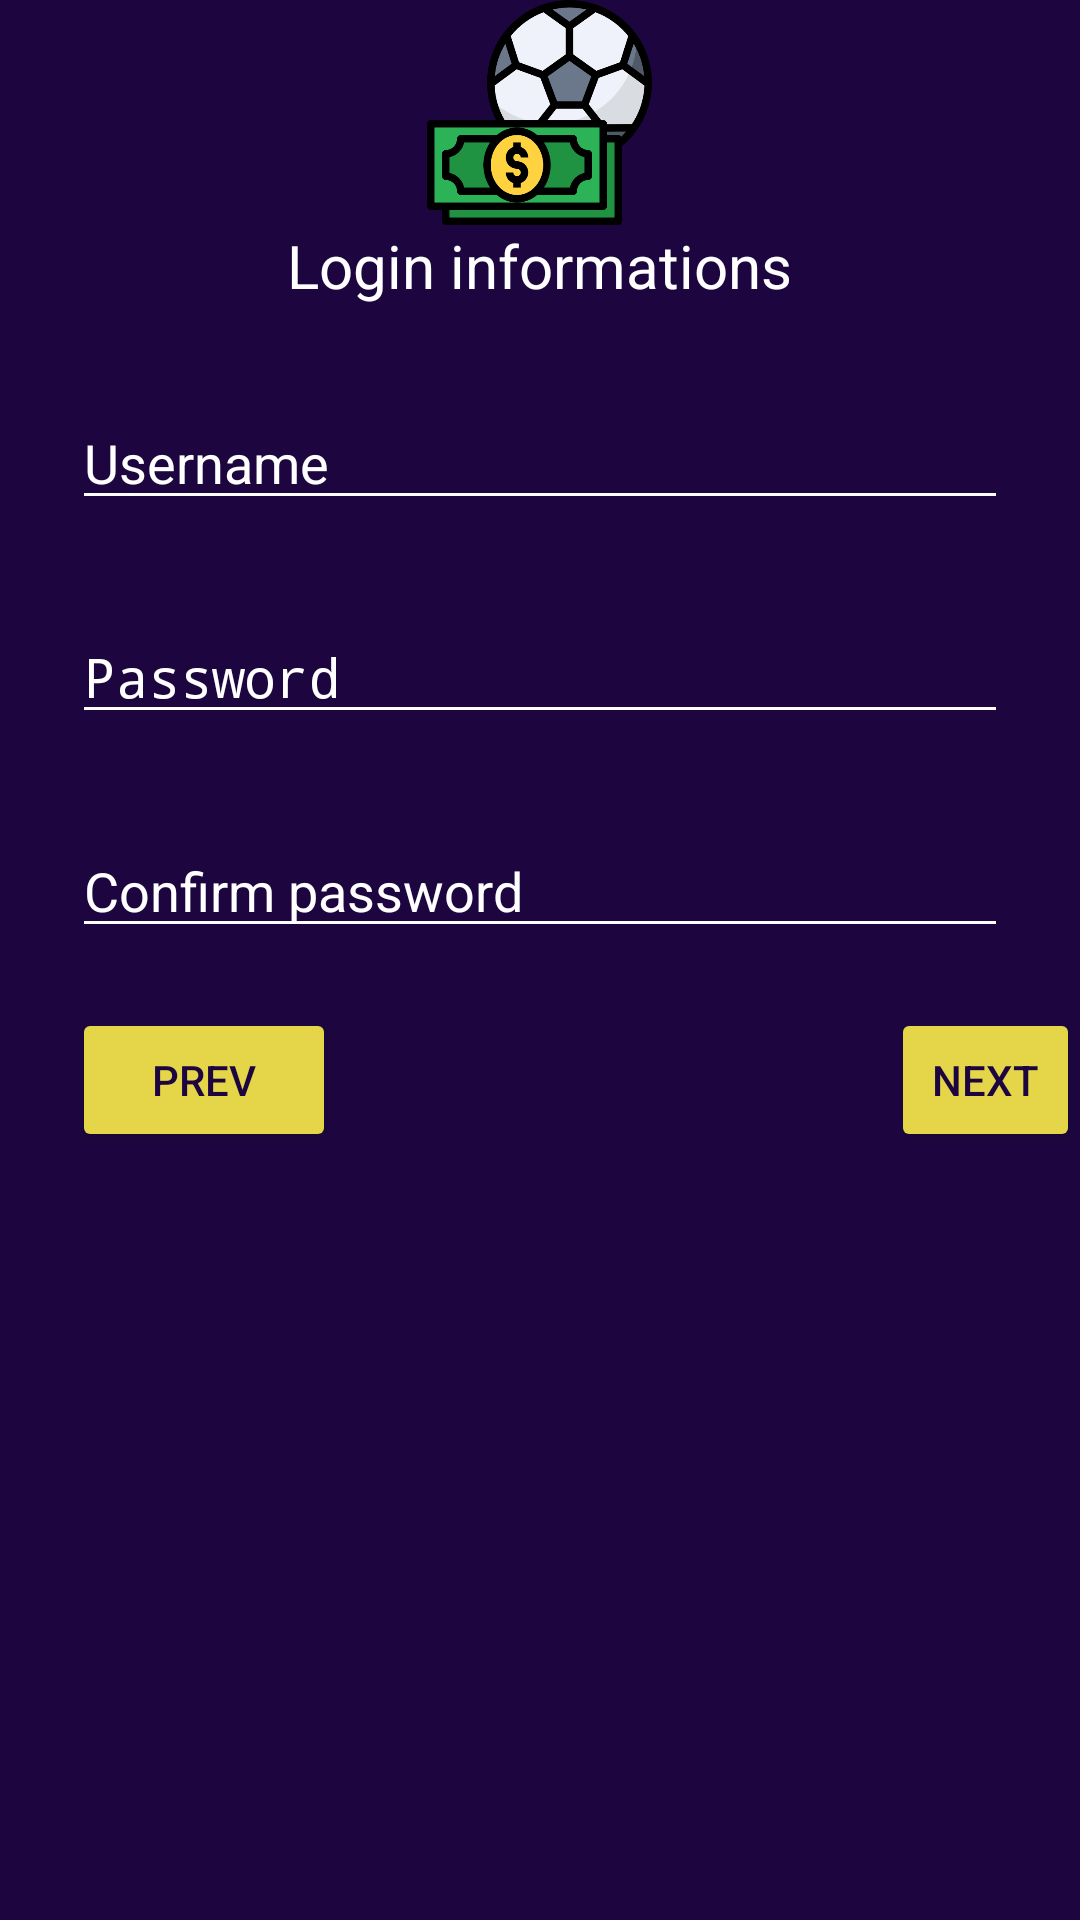

Where icons sit on this 1080*1920 app screen, as (x1,y1,x2,y2):
money: (427,0,652,225)
